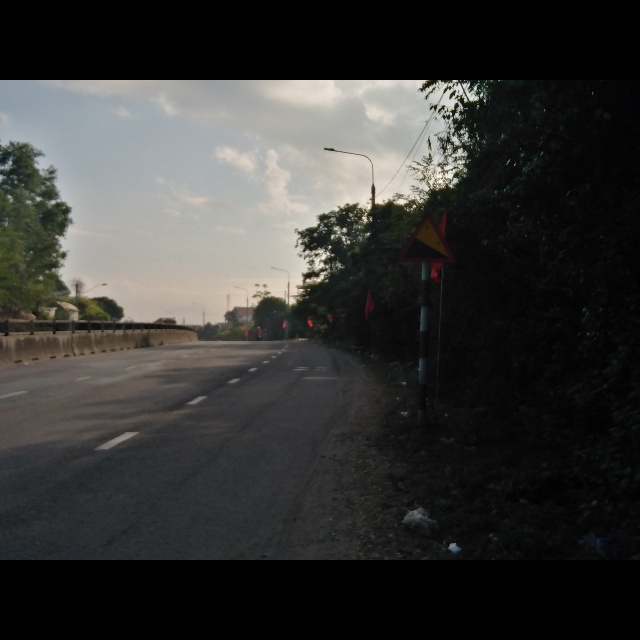Dốc lên nguy hiểm: (398, 208, 457, 263)
